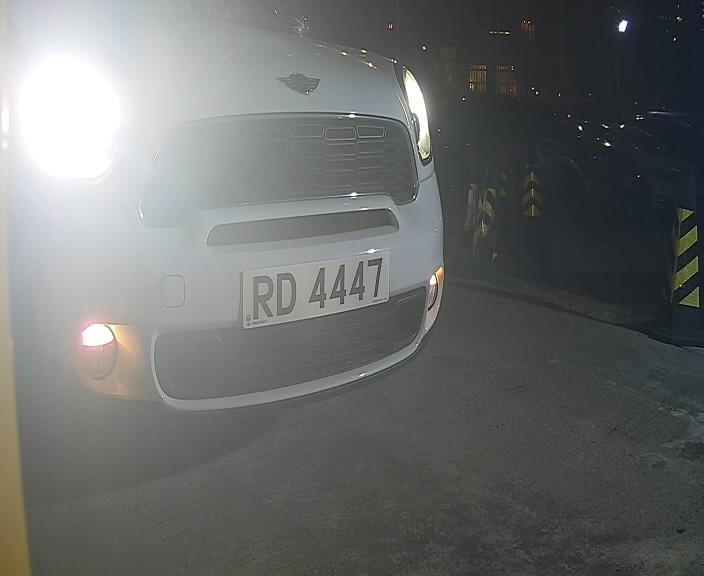License Plate: (227, 242, 390, 337)
